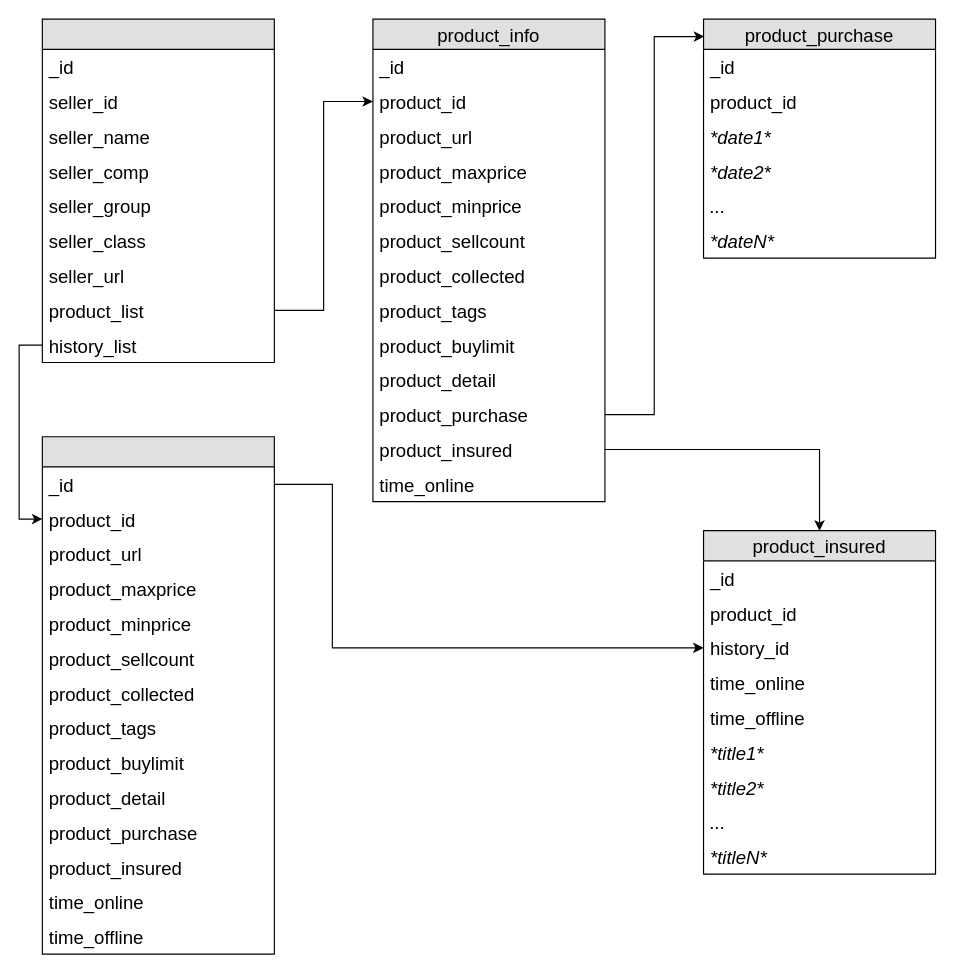
Some shapes in this 955 by 973 pixel diagram are drawn without their labels. The shapes that lost their labels are listed below. From the top down, each one's box as (x1, y1, x2, y2) in pixels, then its label:
(41, 18, 274, 362): seller_info
(41, 436, 274, 954): product_history
